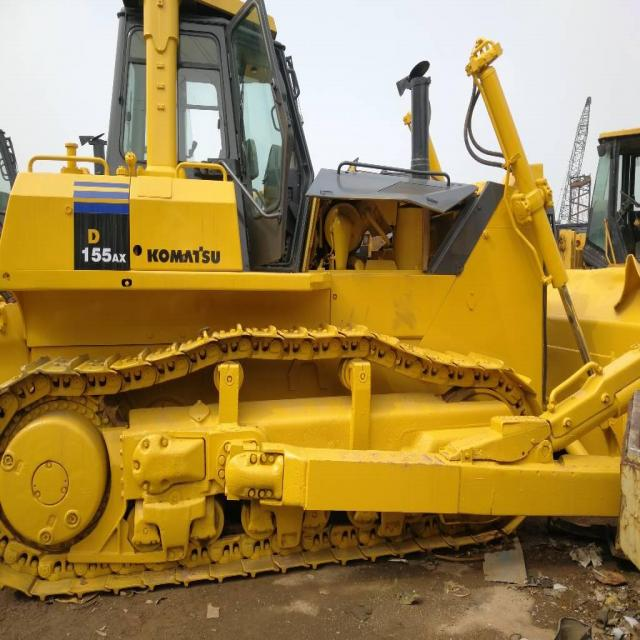Bulldozer: (10, 15, 640, 587)
